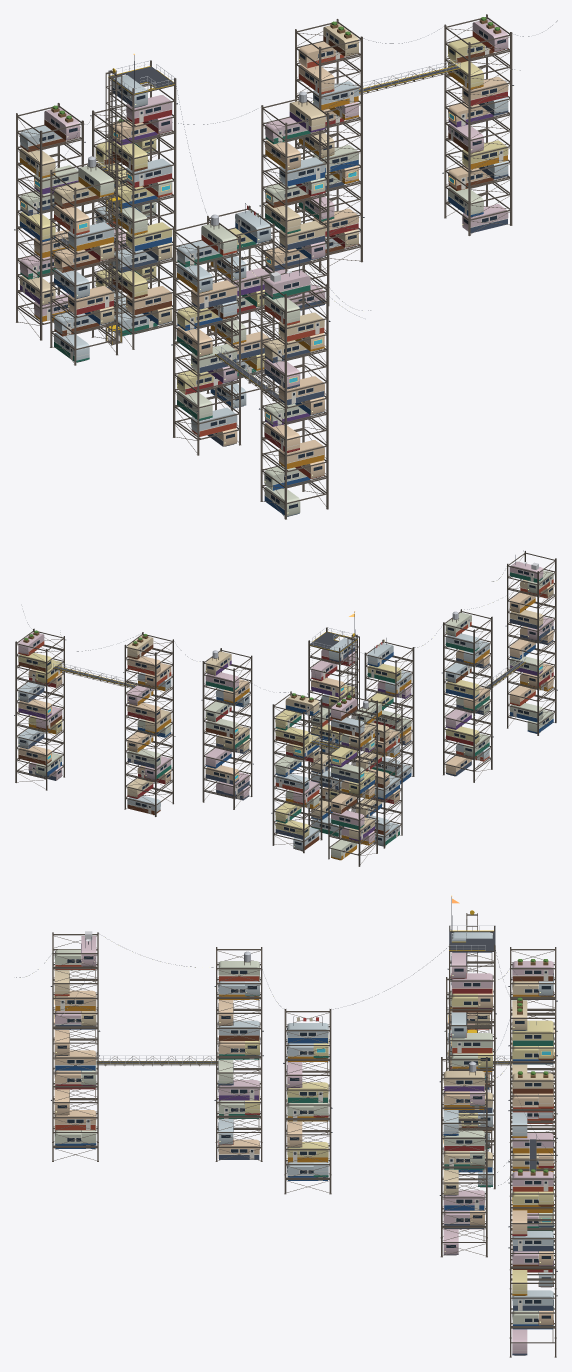
The picture shows the model from 3 angles, top to bottom: view 1: azimuth 30°, elevation 25°; view 2: azimuth 150°, elevation 25°; view 3: azimuth 270°, elevation 25°; orthographic projection. The views are drawn at different scales.
Visible parts, largest first — view 1: vertical_towers.lod0; view 2: vertical_towers.lod0; view 3: vertical_towers.lod0.
Boxes of the visible parts, <box> form: vertical_towers.lod0: <box>14,14,557,519</box>; vertical_towers.lod0: <box>14,550,557,866</box>; vertical_towers.lod0: <box>16,895,557,1357</box>.
Bounding box in the file's own units: 89.45 × 49.92 × 89.4.
